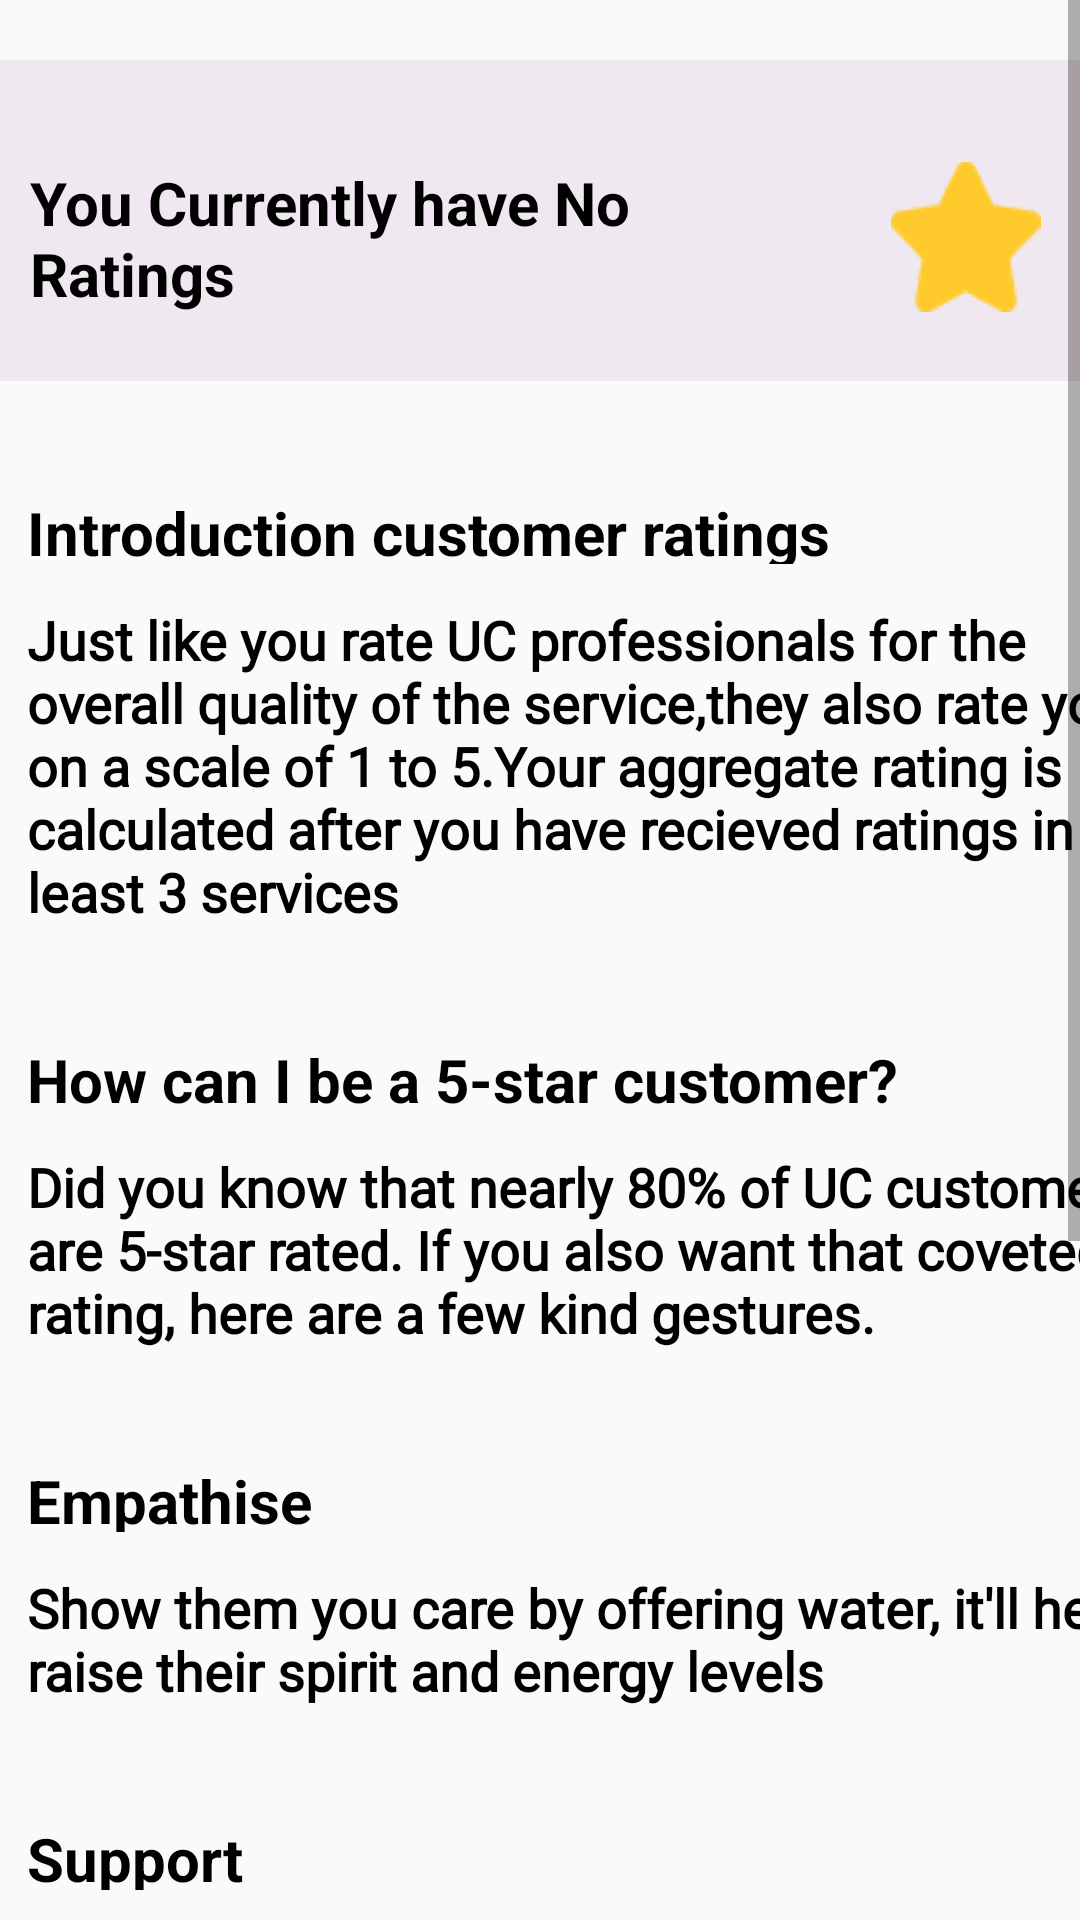

Where icons sit on this 1080 × 1920 app screen, as (x1,y1,x2,y2):
star: (891,162,1041,312)
